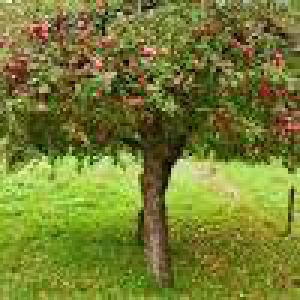Tree: (3, 0, 294, 294)
